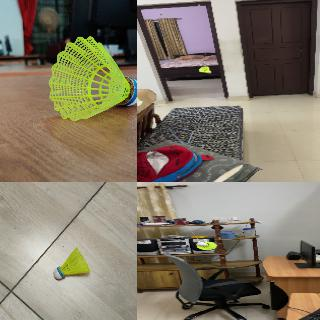shuttlecock: (48, 33, 136, 122), (54, 247, 88, 281), (196, 241, 216, 250), (199, 66, 211, 73)
